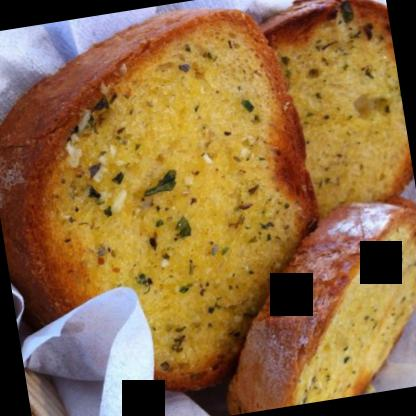toast bread: (0, 0, 338, 415), (195, 190, 415, 415), (245, 0, 415, 220)
